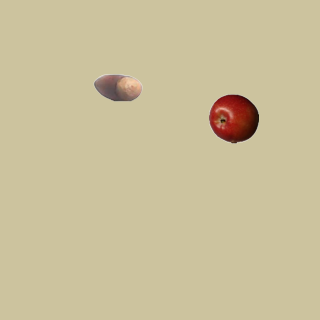Apple Braeburn: (208, 93, 258, 143)
Hazelnut: (92, 62, 142, 112)
